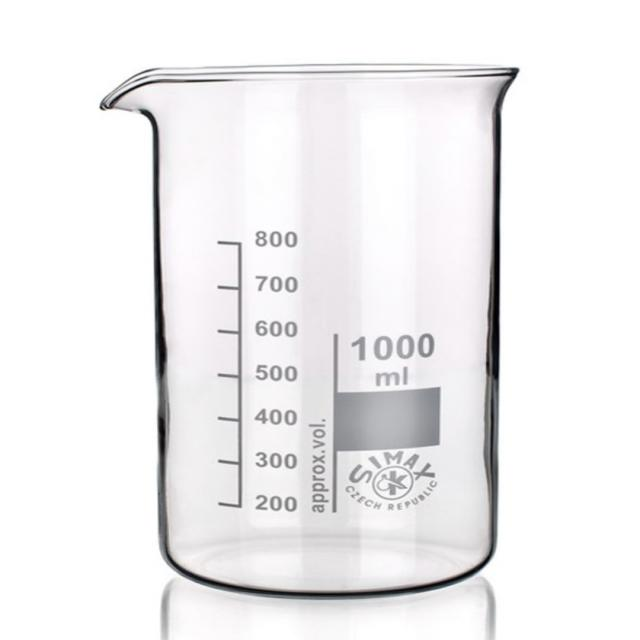recyclable: (75, 47, 541, 615)
